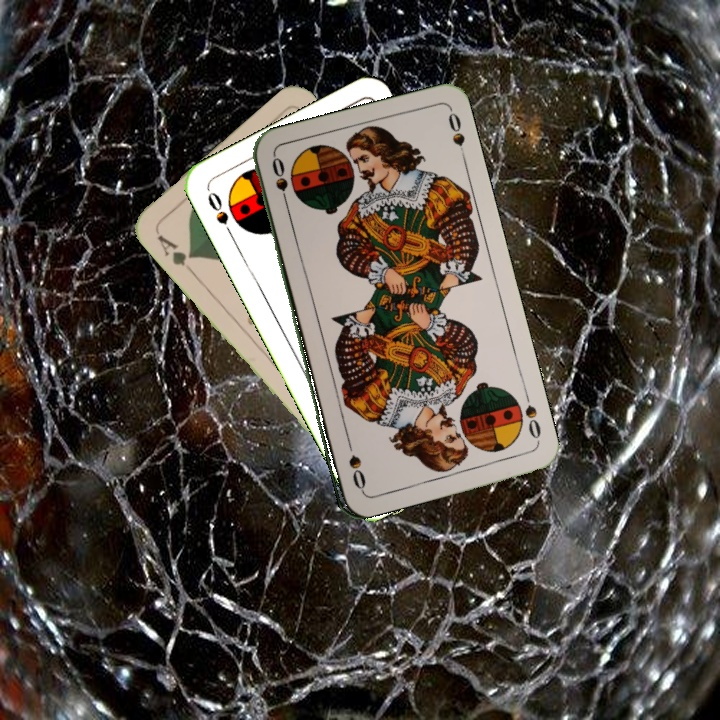GA: (153, 230, 197, 277)
SO: (510, 387, 544, 446), (203, 185, 236, 240), (268, 153, 292, 212)
